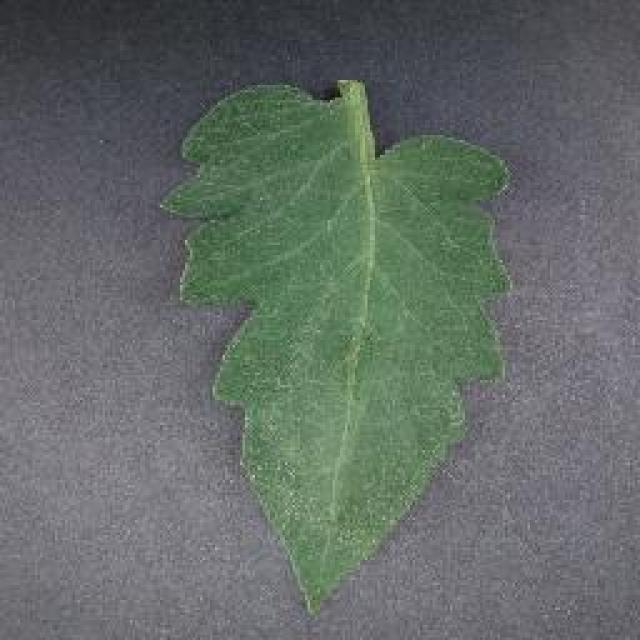Tomato___healthy: (156, 76, 513, 615)
